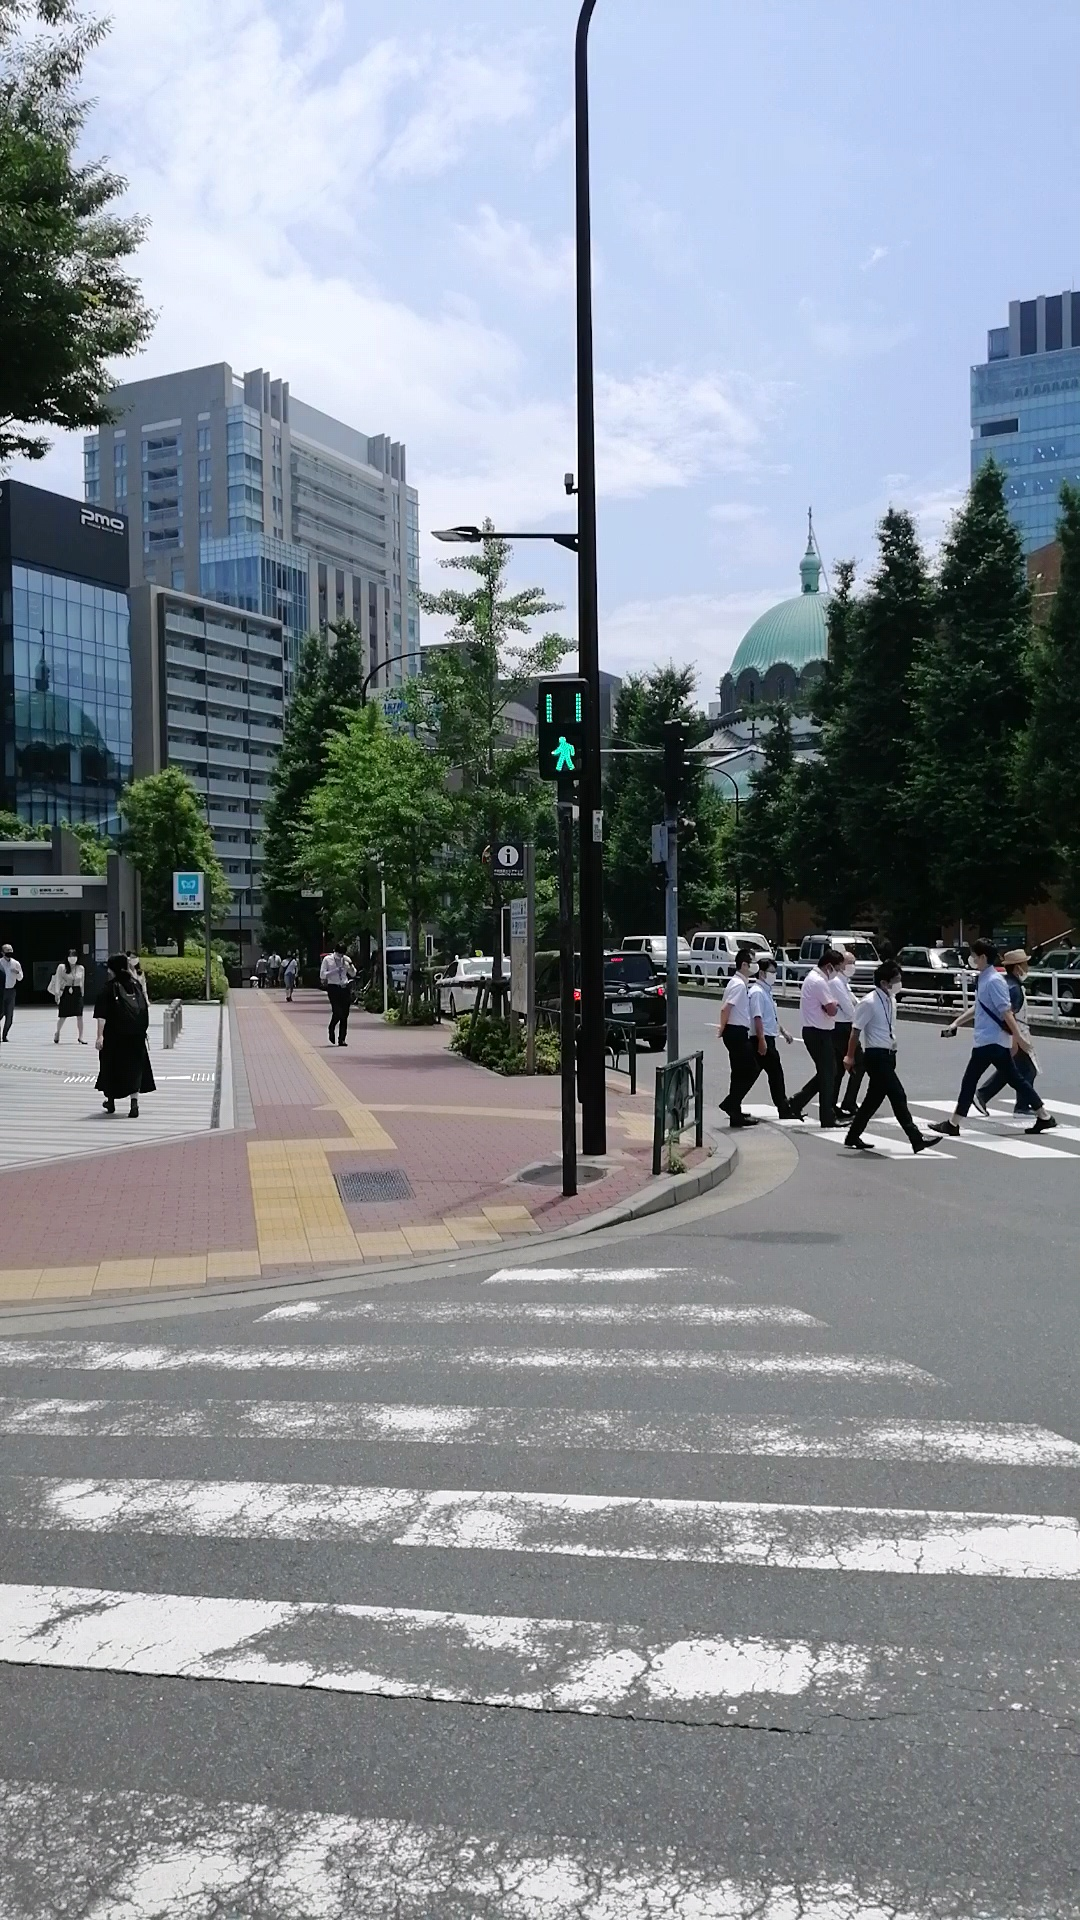green: (537, 678, 592, 781)
